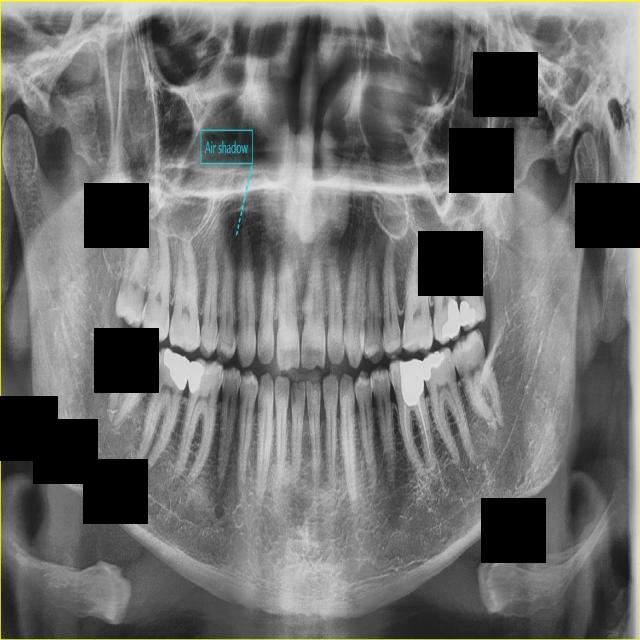74: (415, 397, 433, 459), (403, 401, 411, 447)
NucleOSS Implant: (160, 343, 199, 392), (398, 357, 427, 406), (414, 347, 447, 382), (442, 298, 461, 339), (188, 361, 204, 394), (460, 301, 475, 327)
Sterngold Implant: (395, 328, 401, 343), (199, 330, 206, 340), (431, 321, 433, 331)
